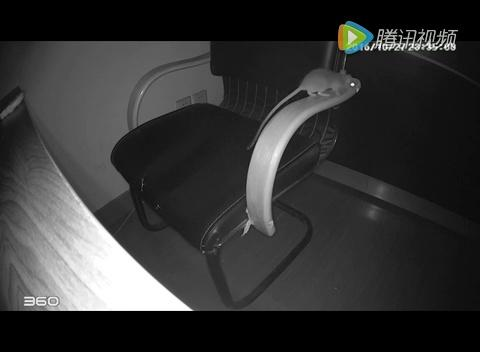rat: (293, 63, 355, 99)
